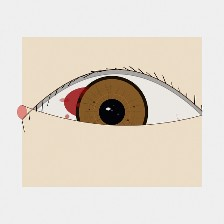hemorrhage_spot: (55, 76, 122, 129)
